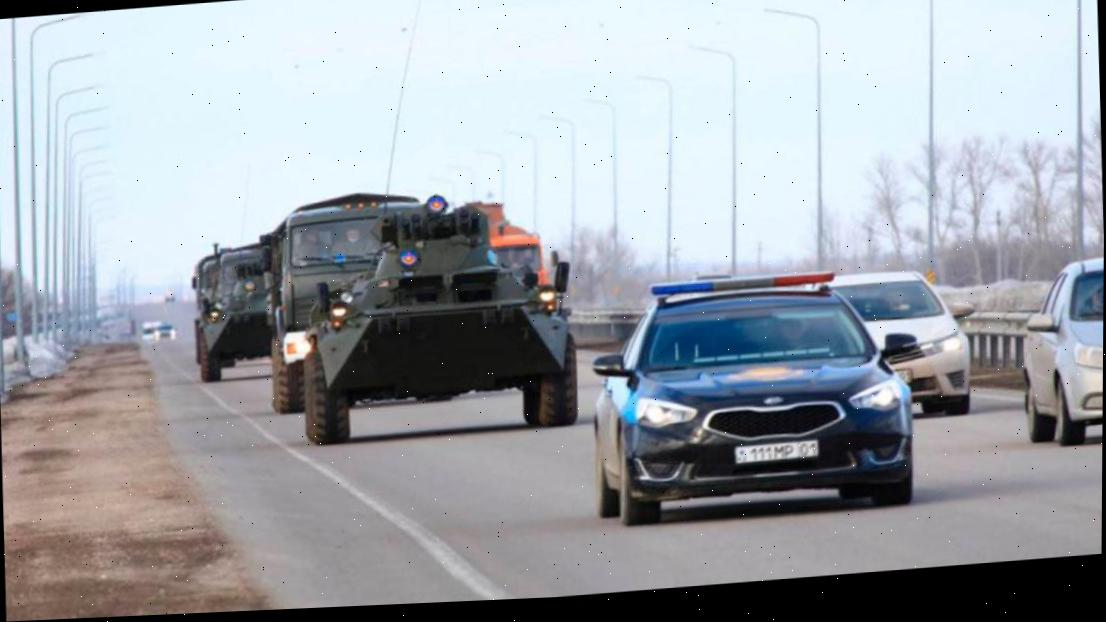car: (587, 254, 914, 533), (838, 260, 981, 427), (1017, 250, 1104, 453)
tank: (291, 205, 578, 448), (197, 265, 283, 385)
truck: (261, 187, 419, 434)
